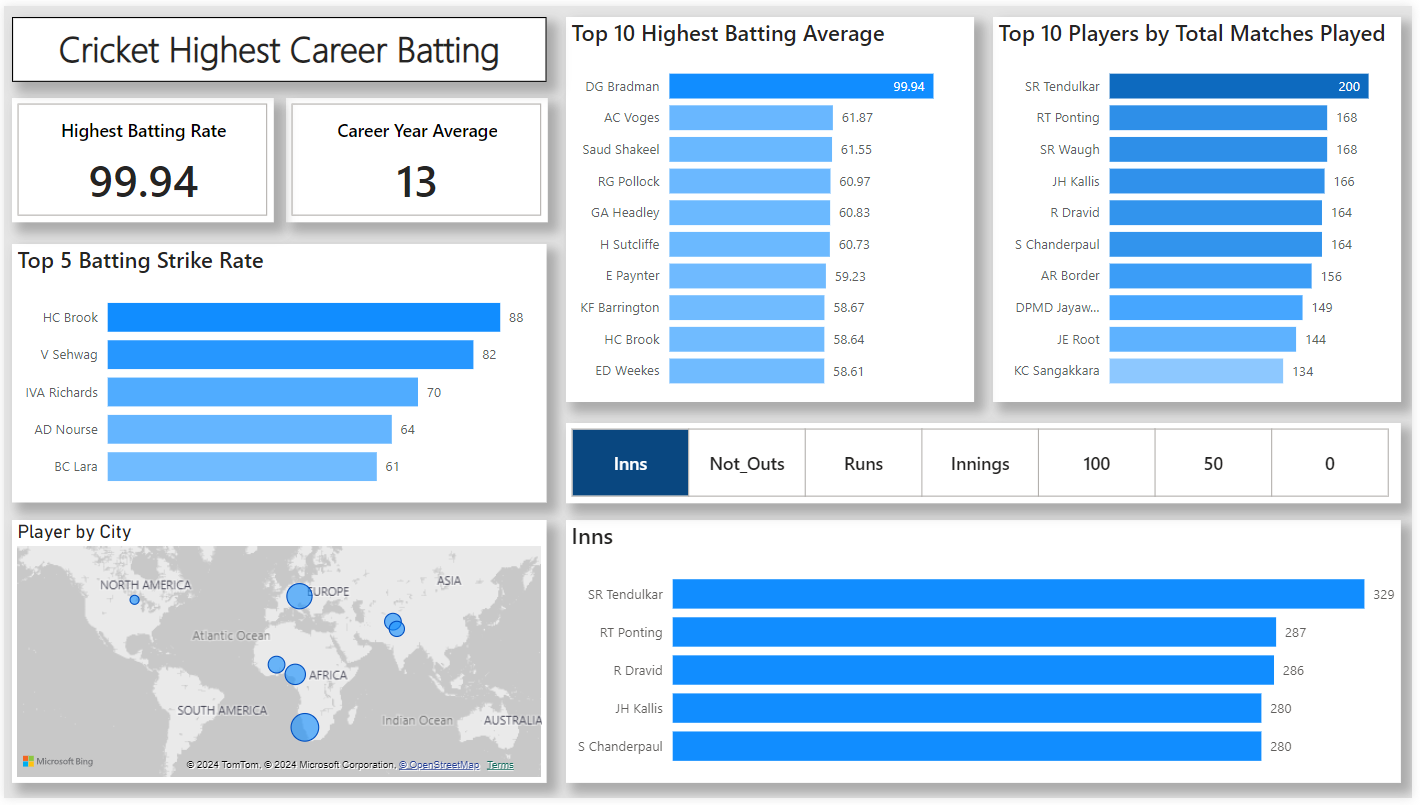

What the dashboard file says about the page in this screenshot:
{"tool":"powerbi","page":{"name":"Page 1","canvas":[1280,720],"ordinal":0},"visuals":[{"type":"barChart","title":"Top 10 Players by Total Matches Played","fields":{"Category":["Cricket_clean_data.Player"],"Y":["Cricket_clean_data.Matches"]},"box":[898.8,10,371.2,350],"z":0},{"type":"cardVisual","fields":{"Data":["Cricket_clean_data.Career_Length"]},"box":[256.2,83.8,237.5,112.5],"z":1000},{"type":"barChart","title":"Top 5 Batting Strike Rate","fields":{"Category":["Cricket_clean_data.Player"],"Y":["Cricket_clean_data.Batting_Strike_Rate"]},"box":[7.5,216.2,486.2,235],"z":2000},{"type":"clusteredBarChart","title":"Top 10 Highest Batting Average","fields":{"Y":["Cricket_clean_data.Ave"],"Category":["Cricket_clean_data.Player"]},"box":[511.2,10,371.2,350],"z":3000},{"type":"map","title":"Player by City","fields":{"Category":["Cricket_clean_data.Country"],"Size":["Cricket_clean_data.Player"]},"box":[7.5,467.5,486.2,238.8],"z":4000},{"type":"cardVisual","fields":{"Data":["Cricket_clean_data.Ave"]},"box":[7.5,83.8,237.5,112.5],"z":5000},{"type":"textbox","box":[7.5,10,486.2,58.8],"z":6000},{"type":"barChart","fields":{"Y":["_All Measures.Inns Total"],"Category":["Cricket_clean_data.Player"]},"box":[511.2,467.5,758.8,238.8],"z":7000},{"type":"advancedSlicerVisual","fields":{"Values":["OptionsParameter.OptionsParameter"]},"box":[511.2,378.8,758.8,72.5],"z":8000}]}

Visuals, with their boxes in screenshot pixels (x1, y1, x2, y2), scaled from the page's 1280x720 canvas onto the 1420x805 screenshot:
"Top 10 Players by Total Matches Played" barChart: x1=997 y1=11 x2=1409 y2=402
cardVisual - Cricket_clean_data.Career_Length: x1=284 y1=94 x2=548 y2=219
"Top 5 Batting Strike Rate" barChart: x1=8 y1=242 x2=548 y2=504
"Top 10 Highest Batting Average" clusteredBarChart: x1=567 y1=11 x2=979 y2=402
"Player by City" map: x1=8 y1=523 x2=548 y2=790
cardVisual - Cricket_clean_data.Ave: x1=8 y1=94 x2=272 y2=219
textbox: x1=8 y1=11 x2=548 y2=77
barChart - _All Measures.Inns Total x Cricket_clean_data.Player: x1=567 y1=523 x2=1409 y2=790
advancedSlicerVisual - OptionsParameter.OptionsParameter: x1=567 y1=424 x2=1409 y2=505
